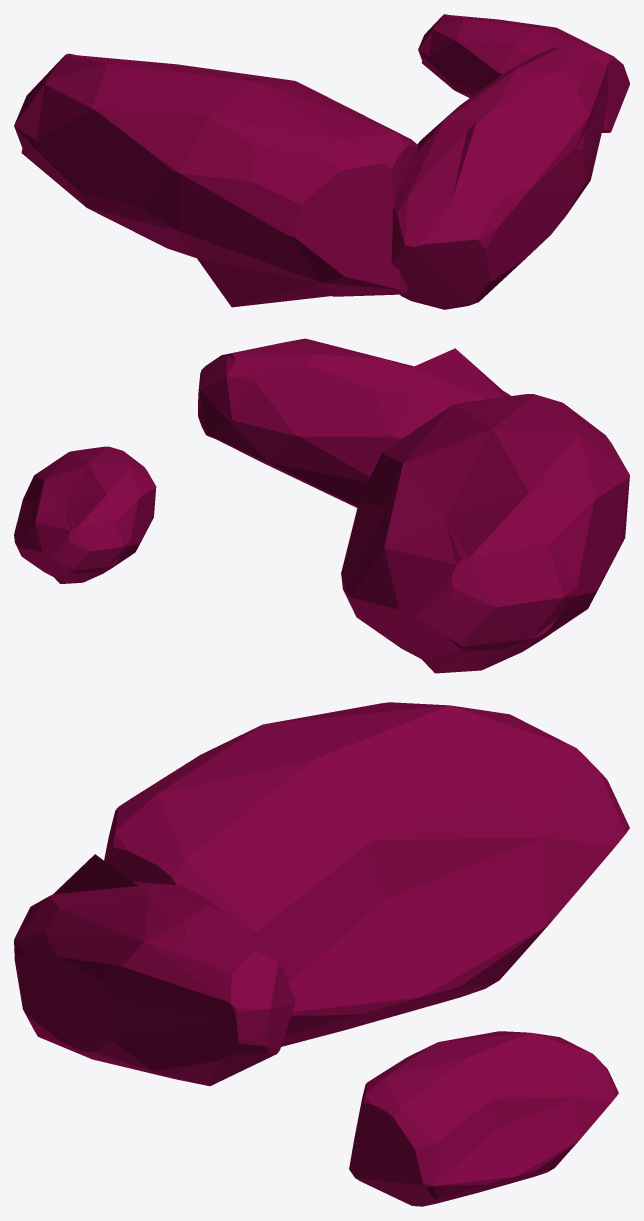
File: rocks.fbx
3 renders of one model, top to bottom at view 1: azimuth 30°, elevation 25°; view 2: azimuth 150°, elevation 25°; view 3: azimuth 270°, elevation 25°, orthographic. The views are drawn at different scales.
Visible parts, largest first — view 1: Icosphere.002, Icosphere, Icosphere.001; view 2: Icosphere.002, Icosphere, Icosphere.001; view 3: Icosphere.002, Icosphere, Icosphere.001.
Part boxes in pixels (x1,y1,x2,y2): Icosphere.002: (14, 53, 418, 307); Icosphere: (391, 45, 607, 309); Icosphere.001: (418, 14, 629, 132); Icosphere.002: (341, 394, 629, 673); Icosphere: (198, 338, 510, 507); Icosphere.001: (14, 446, 156, 583); Icosphere.002: (104, 702, 629, 1046); Icosphere: (14, 854, 294, 1086); Icosphere.001: (349, 1031, 618, 1206).
Bounding box in the file's own units: 804 × 260 × 600.
